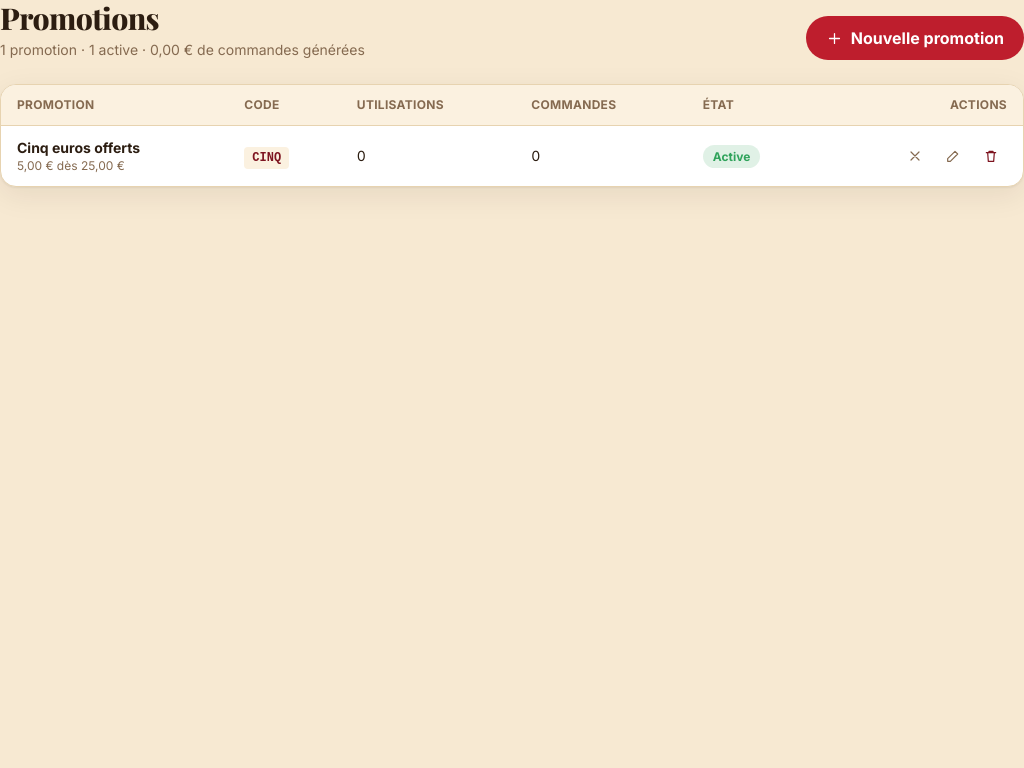
Promotions — un montant déjà enregistré › refuse en revanche au-delà du plafond du serveur, au lieu d'un refus distant
The width and height of the screenshot is (1024, 768).
Click the button named "Modifier". click: [953, 156]
box: [937,140,969,172]
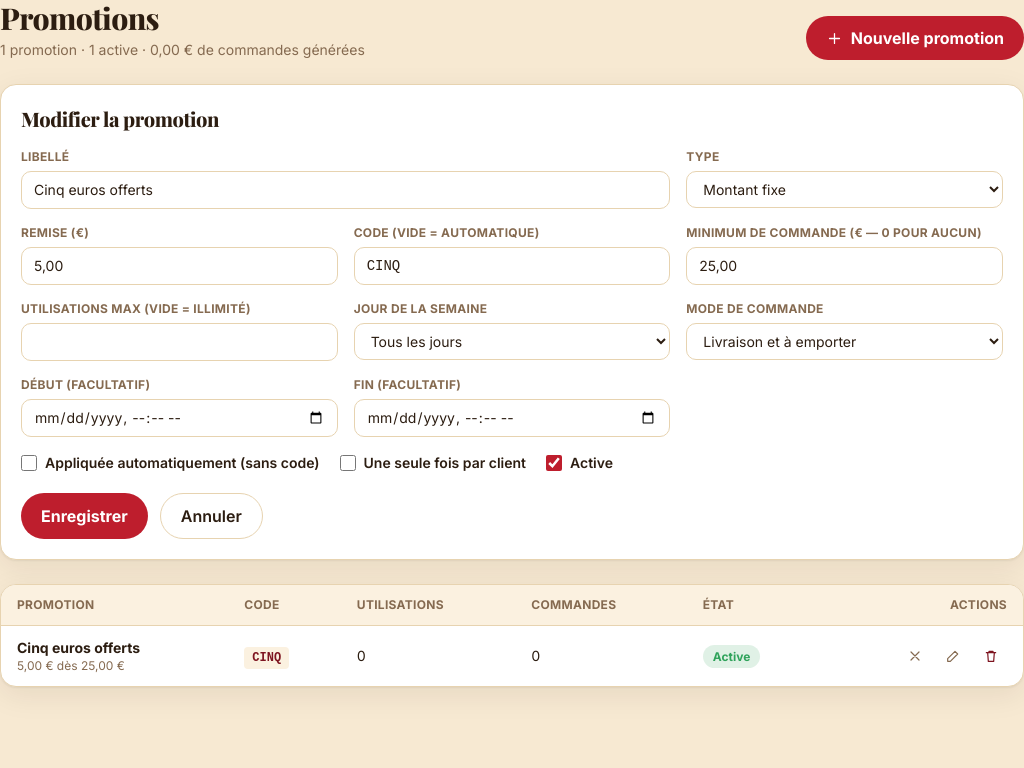
Type "1 250,00 €" into the field with placeholder "25,00". click: [845, 266]
box: [686,247,1003,285]
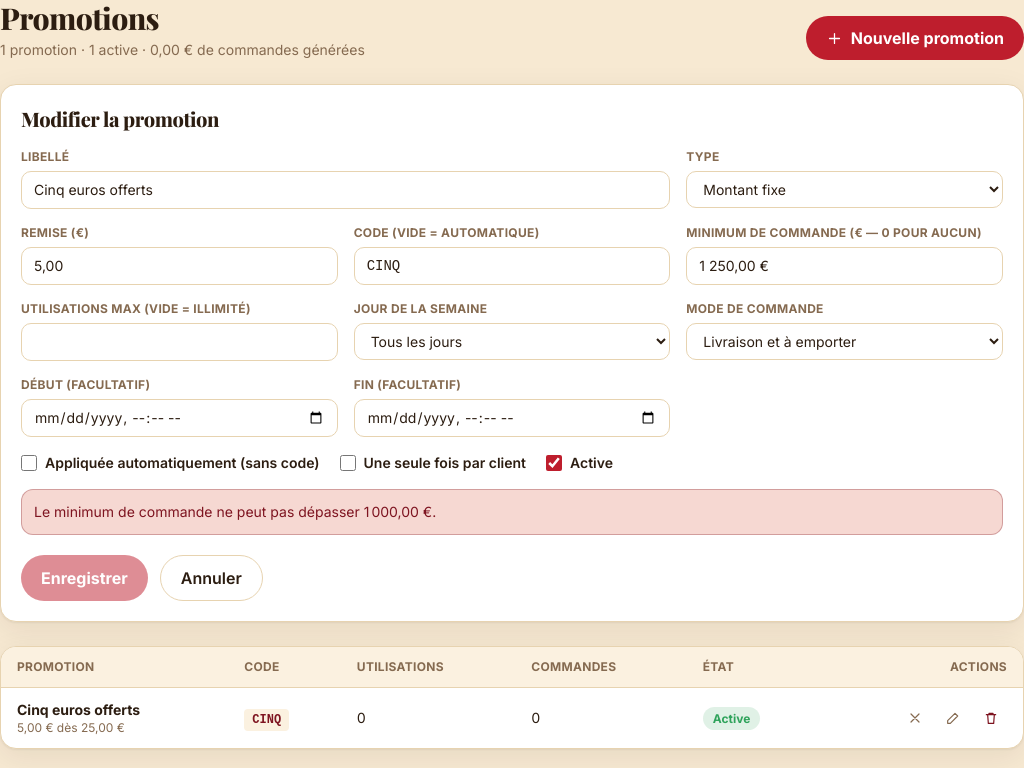
Check: the text "Le minimum de commande ne peut pas dépasser 1 000,00 €." is shown, box [21,489,1003,535]
Check: the button "Enregistrer" is disabled, box [21,555,148,601]
